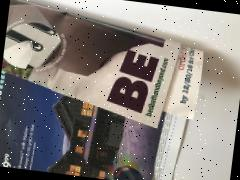paper: (0, 0, 220, 180)
